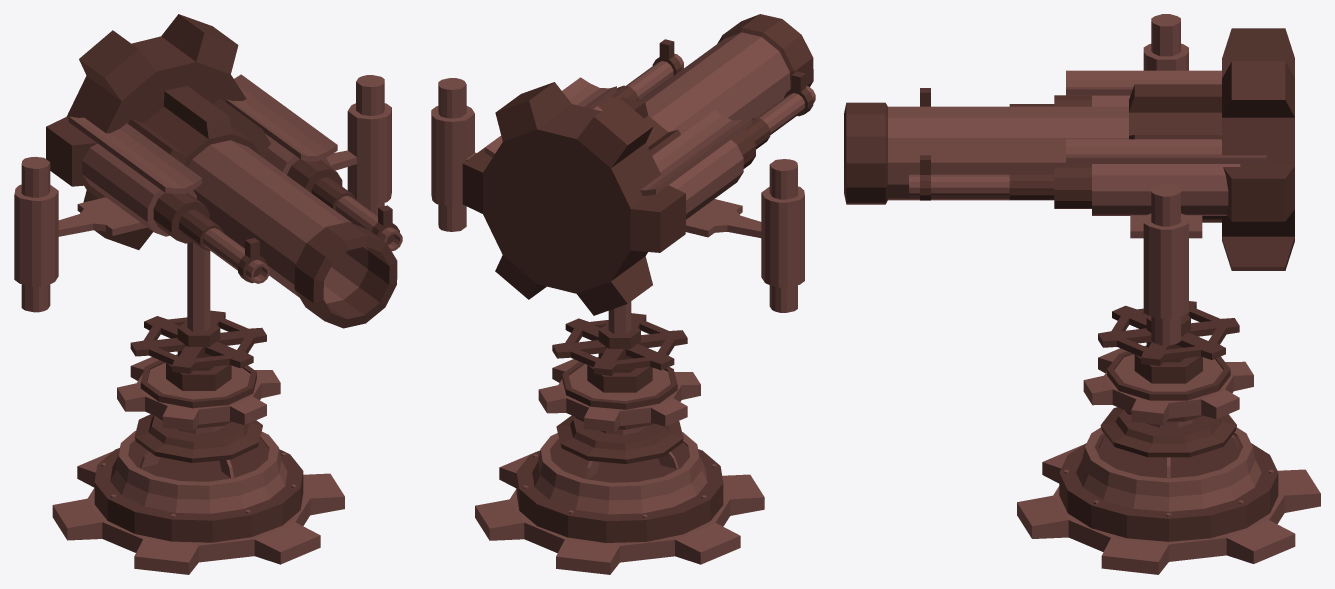
Rendered from cannon_6.glb.
The picture shows the model from 3 angles, left to right: view 1: azimuth 30°, elevation 25°; view 2: azimuth 150°, elevation 25°; view 3: azimuth 270°, elevation 25°; orthographic projection. The views are drawn at different scales.
Visible parts, largest first — view 1: _MeshInstance3D_149, _MeshInstance3D_148, _MeshInstance3D_150; view 2: _MeshInstance3D_149, _MeshInstance3D_148, _MeshInstance3D_150; view 3: _MeshInstance3D_149, _MeshInstance3D_148, _MeshInstance3D_150.
Part boxes in pixels (x1,y1,x2,y2): _MeshInstance3D_149: (14,14,402,328); _MeshInstance3D_148: (52,354,344,574); _MeshInstance3D_150: (130,242,266,390); _MeshInstance3D_149: (431,14,815,315); _MeshInstance3D_148: (475,359,764,574); _MeshInstance3D_150: (552,301,687,392); _MeshInstance3D_149: (844,14,1294,345); _MeshInstance3D_148: (1017,345,1320,574); _MeshInstance3D_150: (1098,301,1239,383).
Size of the model in its own units: 2.02 by 2.35 by 2.16.
